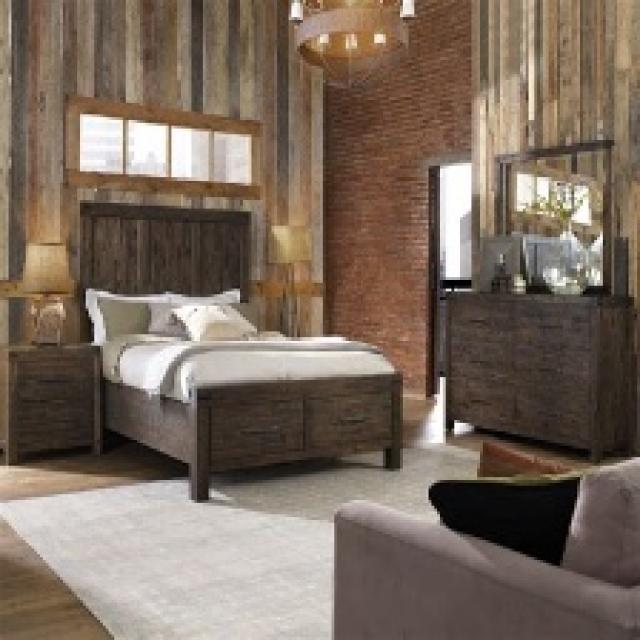Bed: (77, 200, 403, 500)
